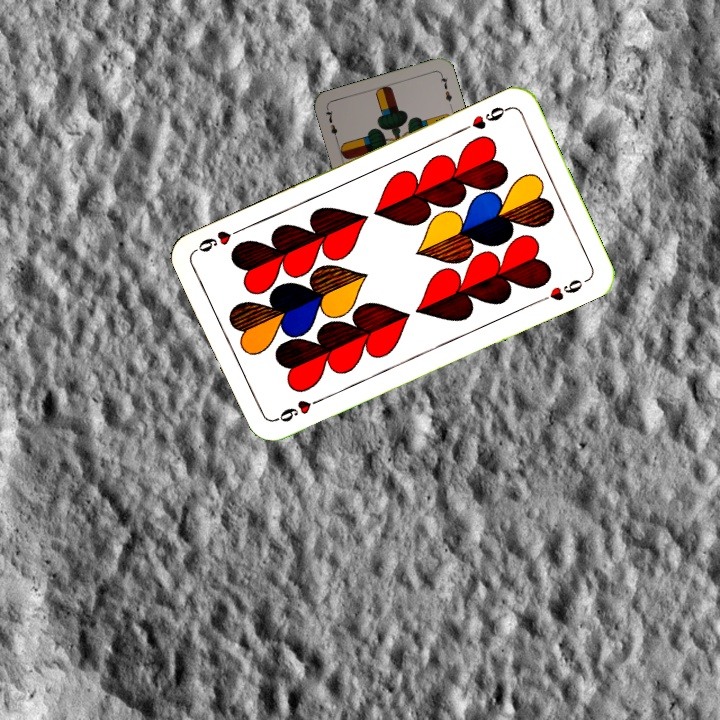E7: (322, 106, 341, 145)
H9: (457, 102, 512, 135), (270, 393, 326, 425)
